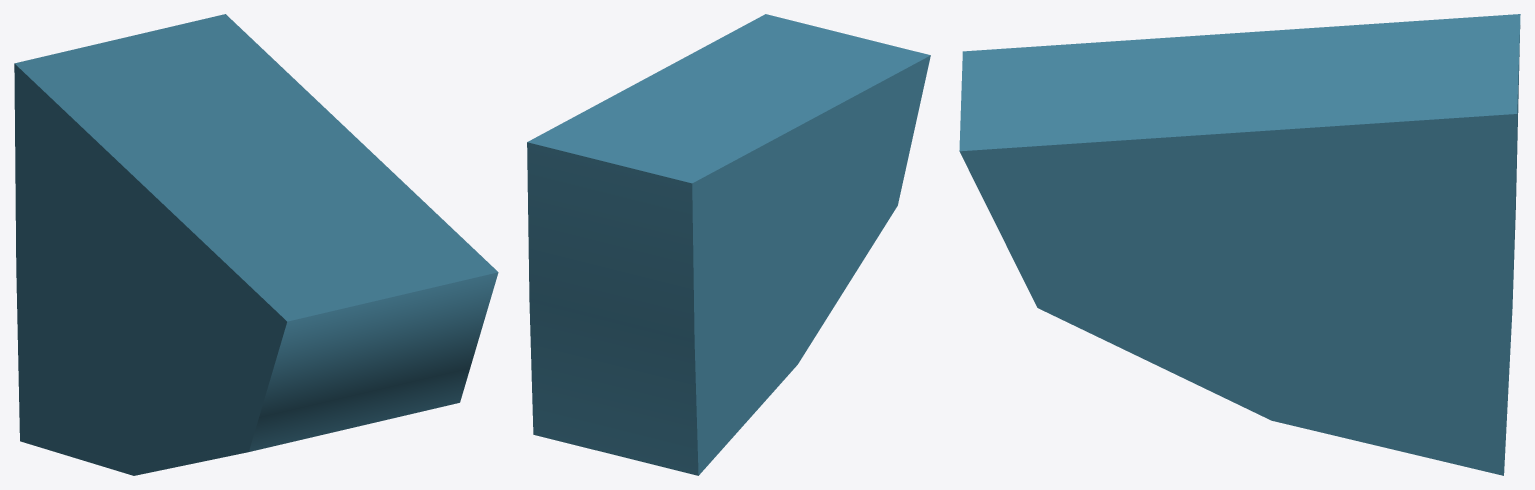
The model's file is NexusC_Trigger_22.fbx.
3 renders of one model, left to right at view 1: azimuth 30°, elevation 25°; view 2: azimuth 150°, elevation 25°; view 3: azimuth 270°, elevation 25°, orthographic. The views are drawn at different scales.
Visible parts, largest first — view 1: polySurface52; view 2: polySurface52; view 3: polySurface52.
Boxes of the visible parts, <box> form: polySurface52: <box>14,14,498,475</box>; polySurface52: <box>527,14,930,475</box>; polySurface52: <box>959,14,1520,475</box>.
Size of the model in its own units: 13.69 by 21.87 by 30.63.
